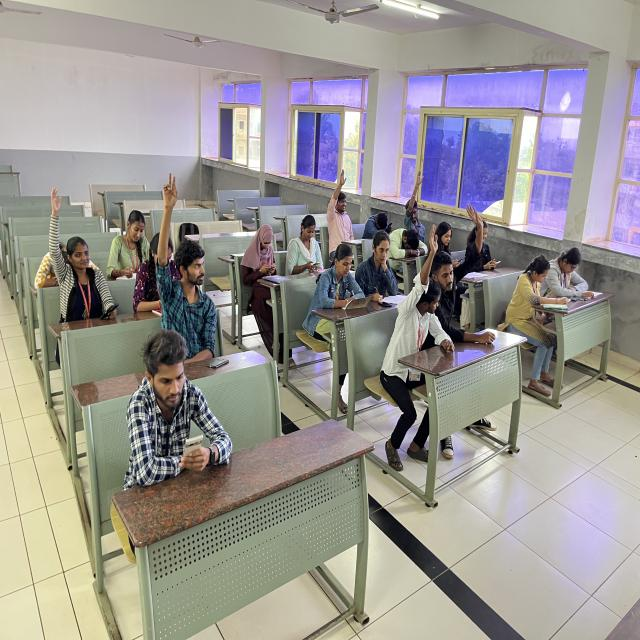Hand Rising: (150, 167, 234, 344), (43, 180, 104, 330), (432, 210, 486, 318), (402, 222, 448, 347), (324, 165, 354, 253), (400, 168, 429, 233)
Reading: (504, 251, 563, 335), (103, 205, 159, 285), (545, 240, 598, 307)
Sleeping: (360, 207, 398, 238)
Using Phone: (120, 325, 238, 480), (240, 221, 290, 316), (285, 211, 329, 281), (468, 212, 502, 276)
Writing: (303, 242, 373, 324), (354, 228, 407, 305)
